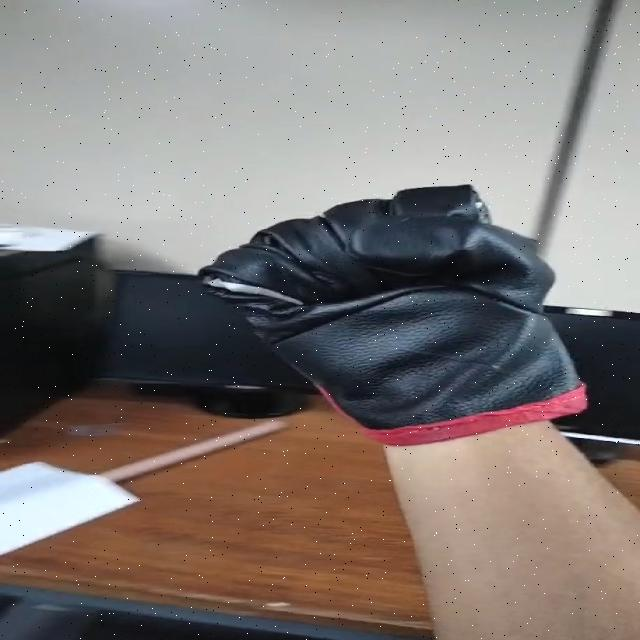Gloves: (203, 180, 604, 448)
